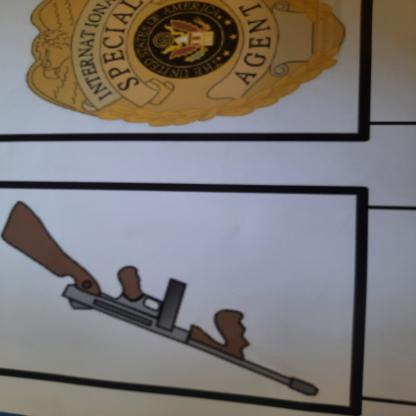Bootlegger: (6, 188, 346, 412)
G-man: (18, 1, 360, 140)
